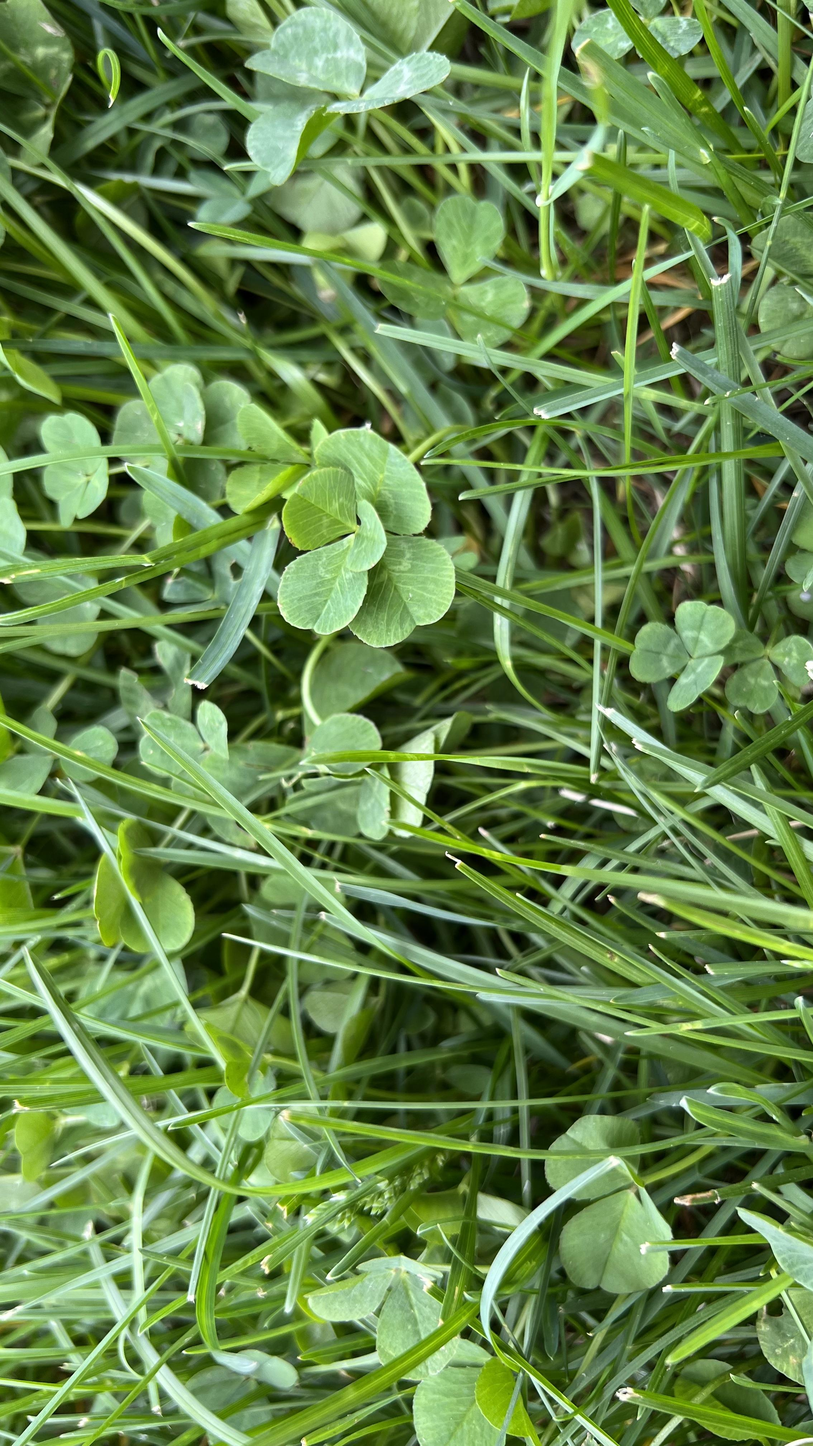5-Leaf-Clovers: (280, 430, 457, 645)
